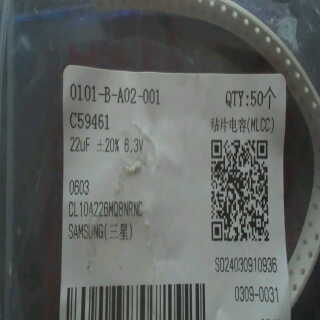22uF: (66, 134, 93, 154)
